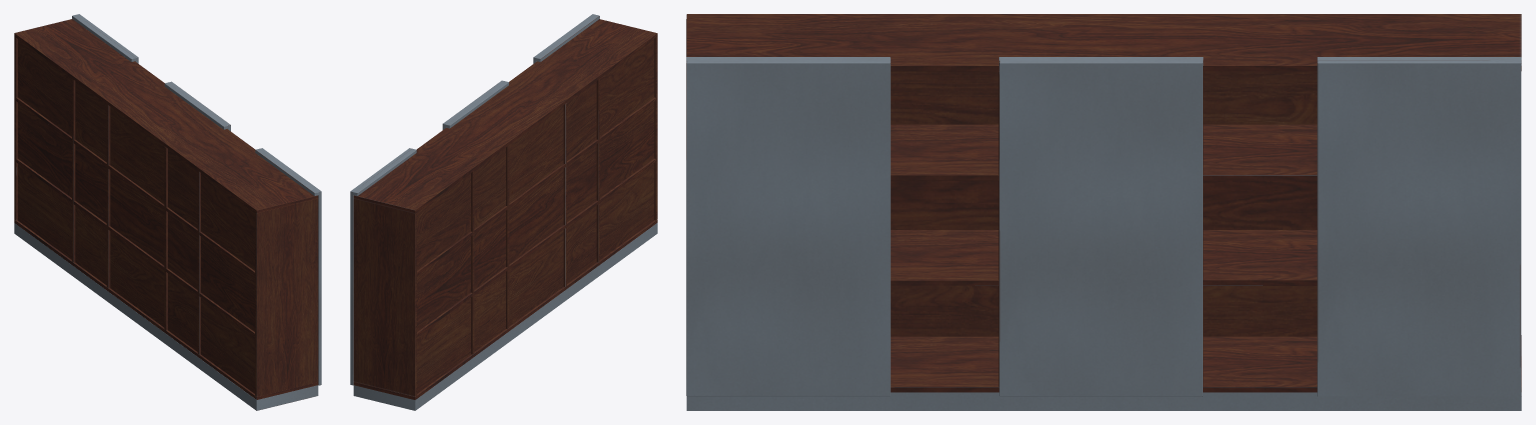
Rendered from betadolap3d.glb.
3 views of the same model, side by side, from view 1: azimuth 30°, elevation 25°; view 2: azimuth 150°, elevation 25°; view 3: azimuth 270°, elevation 25° (orthographic). The views are drawn at different scales.
Parts seen in each view (by area): view 1: ASSET_Joined; view 2: ASSET_Joined; view 3: ASSET_Joined.
Part boxes in pixels (<box>): ASSET_Joined: <box>14,14,321,410</box>; ASSET_Joined: <box>350,14,657,410</box>; ASSET_Joined: <box>686,14,1521,410</box>.
Size of the model in its own units: 0.3804 by 1.14 by 2.45.
Materials: 1 (1 with a texture image).
